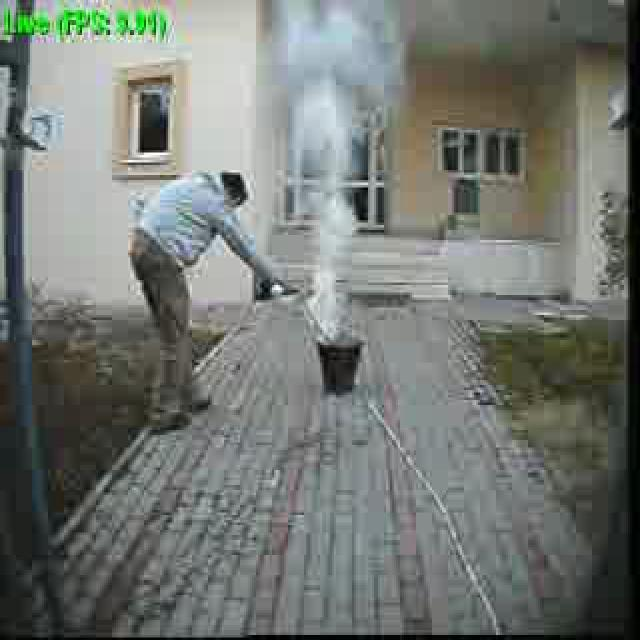Smoke: (296, 17, 366, 330)
